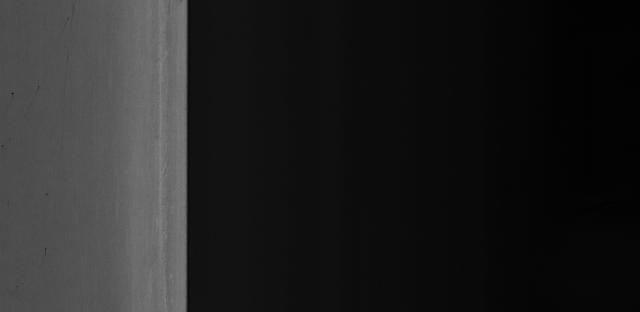inclusion: (7, 88, 18, 102)
